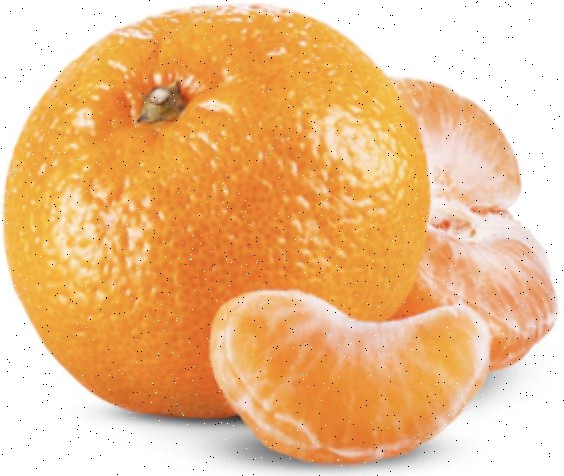fresh_orange: (7, 5, 432, 425)
